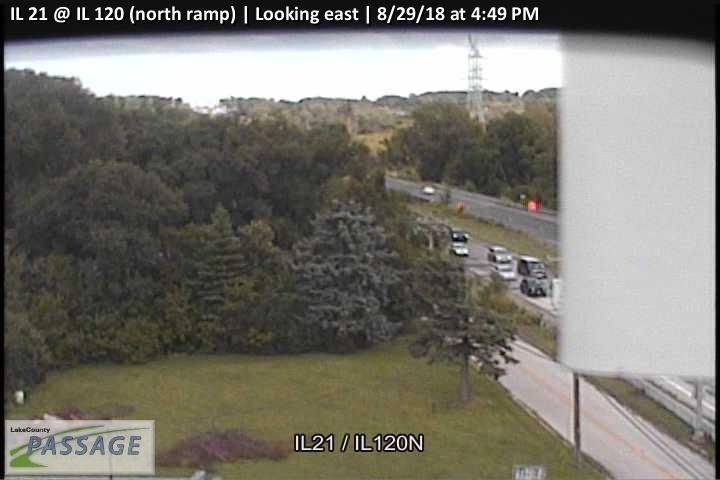Sedan: (518, 276, 550, 297), (487, 262, 518, 282), (519, 258, 547, 277), (486, 245, 512, 263)
